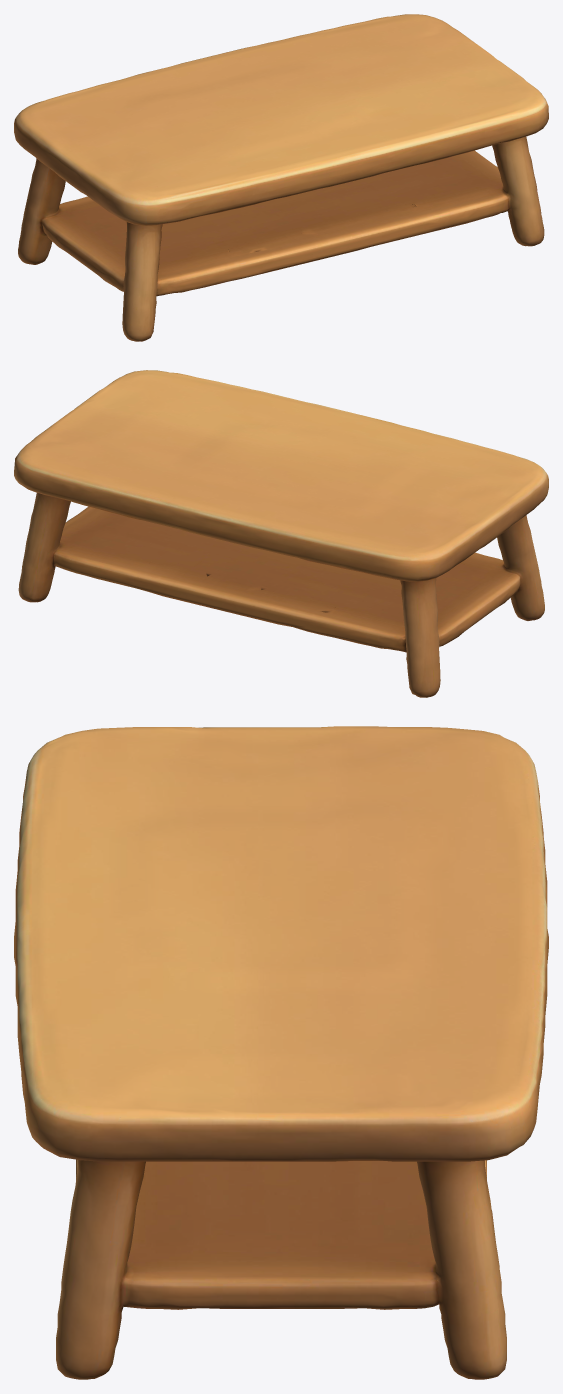
File: oak-coffee-table-stylized-v2.glb
3 renders of one model, top to bottom at view 1: azimuth 30°, elevation 25°; view 2: azimuth 150°, elevation 25°; view 3: azimuth 270°, elevation 25°, orthographic. The views are drawn at different scales.
Visible parts, largest first — view 1: oak-coffee-table-stylized-v2; view 2: oak-coffee-table-stylized-v2; view 3: oak-coffee-table-stylized-v2.
Boxes of the visible parts, box(x1,y1,x2,y2) form: oak-coffee-table-stylized-v2: box(14, 14, 548, 341); oak-coffee-table-stylized-v2: box(14, 370, 548, 697); oak-coffee-table-stylized-v2: box(14, 726, 548, 1379).
Size of the model in its own units: 0.95 by 0.3142 by 0.5447.
1 material, 1 textured.
